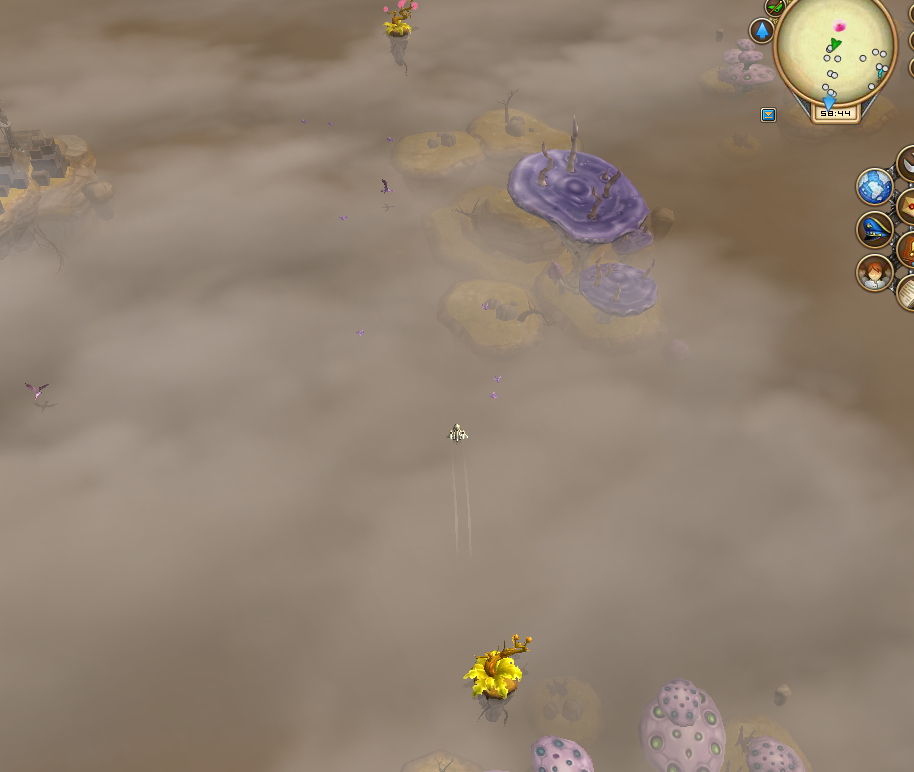dandelion-empty: (460, 622, 535, 721)
dandelion-full: (377, 0, 416, 64)
